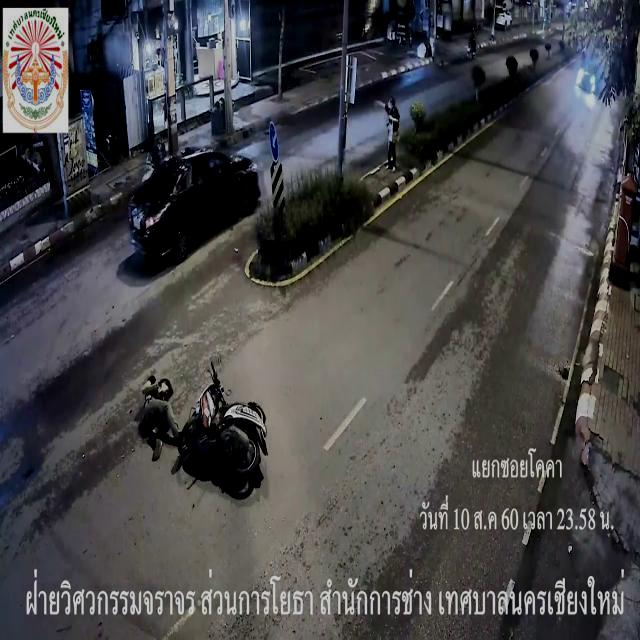accident: (181, 368, 269, 480)
